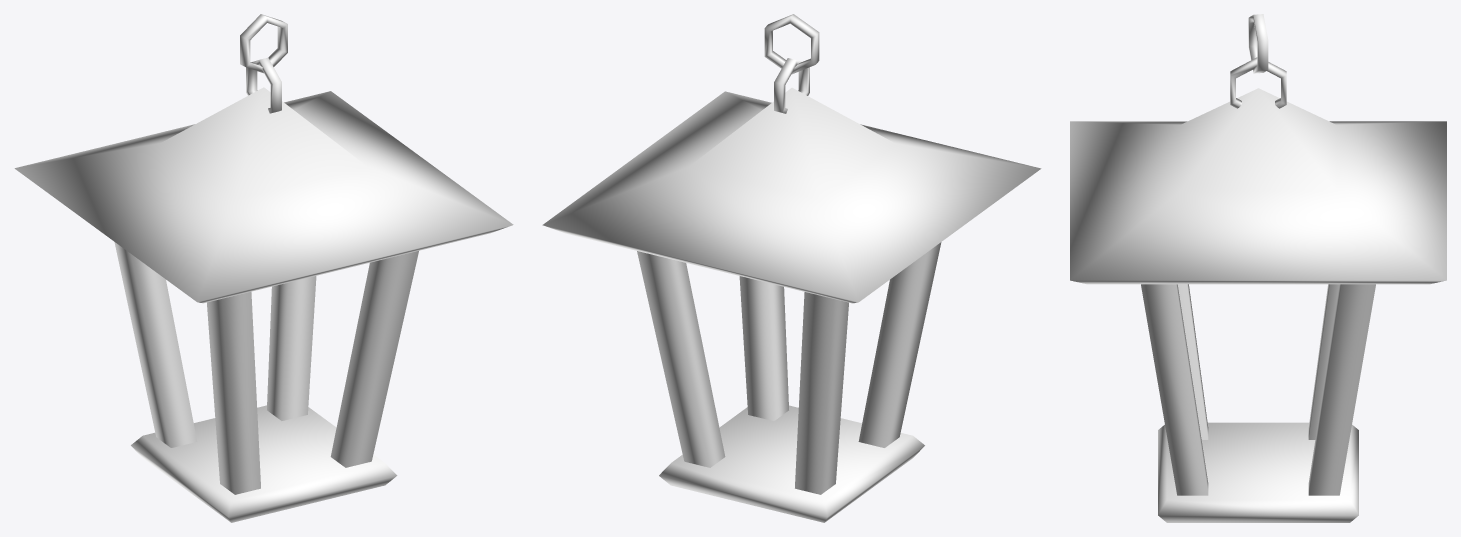
File: stklib_oldLantern_a_main.glb
The picture shows the model from 3 angles, left to right: view 1: azimuth 30°, elevation 25°; view 2: azimuth 150°, elevation 25°; view 3: azimuth 270°, elevation 25°; orthographic projection. The views are drawn at different scales.
Parts seen in each view (by area): view 1: stklib_oldLantern_ao_a.png_stk_generic_ironA.png; view 2: stklib_oldLantern_ao_a.png_stk_generic_ironA.png; view 3: stklib_oldLantern_ao_a.png_stk_generic_ironA.png.
Boxes of the visible parts, <box> form: stklib_oldLantern_ao_a.png_stk_generic_ironA.png: <box>14,14,513,522</box>; stklib_oldLantern_ao_a.png_stk_generic_ironA.png: <box>542,14,1041,522</box>; stklib_oldLantern_ao_a.png_stk_generic_ironA.png: <box>1070,14,1446,522</box>.
Bounding box in the file's own units: 0.7269 × 1.06 × 0.7269.
Materials: 1 (1 with a texture image).
